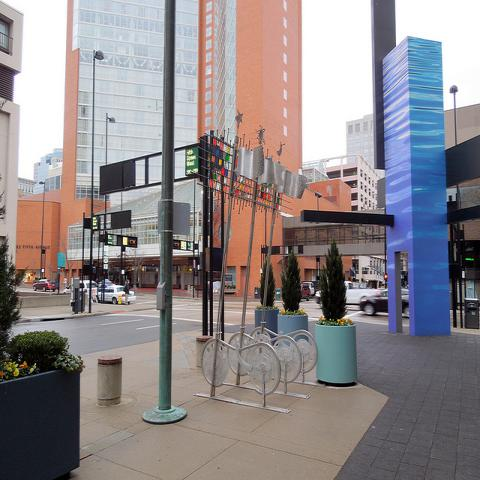car: (315, 282, 380, 308), (359, 287, 409, 317), (98, 285, 136, 305), (80, 280, 98, 302), (33, 279, 56, 292), (301, 284, 311, 300), (98, 282, 113, 290)
